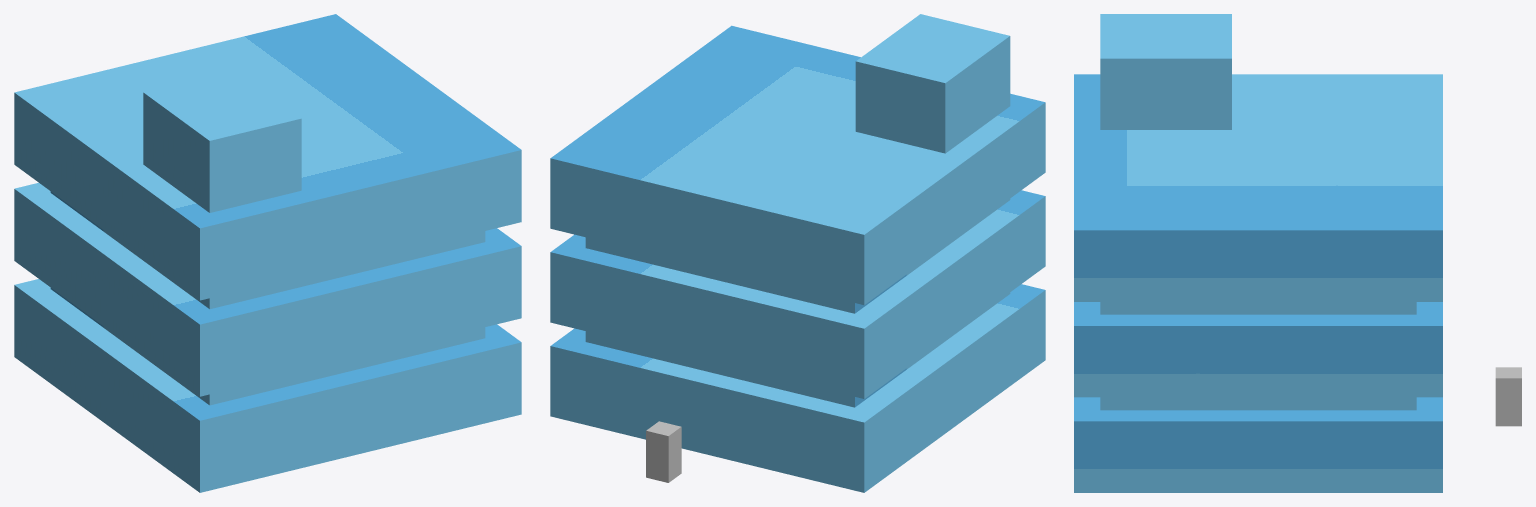
The model's file is buildingTest.obj.
3 views of the same model, side by side, from view 1: azimuth 30°, elevation 25°; view 2: azimuth 150°, elevation 25°; view 3: azimuth 270°, elevation 25° (orthographic). The views are drawn at different scales.
Parts seen in each view (by area): view 1: cube; view 2: cube; view 3: cube.
Boxes of the visible parts, box(x1,y1,x2,y2) form: cube: box(14, 14, 521, 492); cube: box(550, 14, 1045, 492); cube: box(1074, 14, 1521, 492).
Size of the model in its own units: 0.875 by 0.875 by 1.06.
